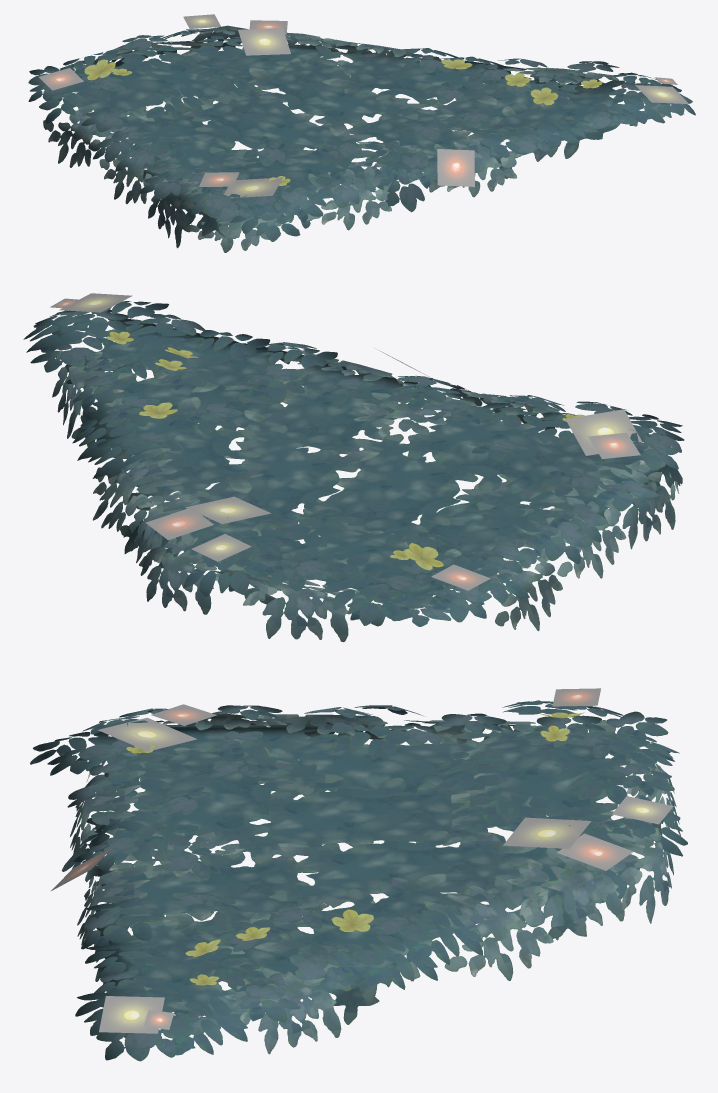
Rendered from pref_sm_beach_winter_techvegetation05_lv3.fbx.
3 renders of one model, top to bottom at view 1: azimuth 30°, elevation 25°; view 2: azimuth 150°, elevation 25°; view 3: azimuth 270°, elevation 25°, orthographic. The views are drawn at different scales.
Visible parts, largest first — view 1: pref_sm_beach_winter_techvegetation05_lv3, sm_beach_winter_techvegetation05b_lv3; view 2: pref_sm_beach_winter_techvegetation05_lv3, sm_beach_winter_techvegetation05b_lv3; view 3: pref_sm_beach_winter_techvegetation05_lv3, sm_beach_winter_techvegetation05b_lv3.
Part boxes in pixels (<box>): pref_sm_beach_winter_techvegetation05_lv3: <box>28,25,695,252</box>; sm_beach_winter_techvegetation05b_lv3: <box>39,14,688,198</box>; pref_sm_beach_winter_techvegetation05_lv3: <box>23,301,684,642</box>; sm_beach_winter_techvegetation05b_lv3: <box>50,293,642,590</box>; pref_sm_beach_winter_techvegetation05_lv3: <box>30,700,687,1061</box>; sm_beach_winter_techvegetation05b_lv3: <box>51,688,673,1033</box>.
Bounding box in the file's own units: 6.71 × 0.9564 × 5.36.
